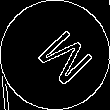M_SW: (21, 21, 89, 89)
